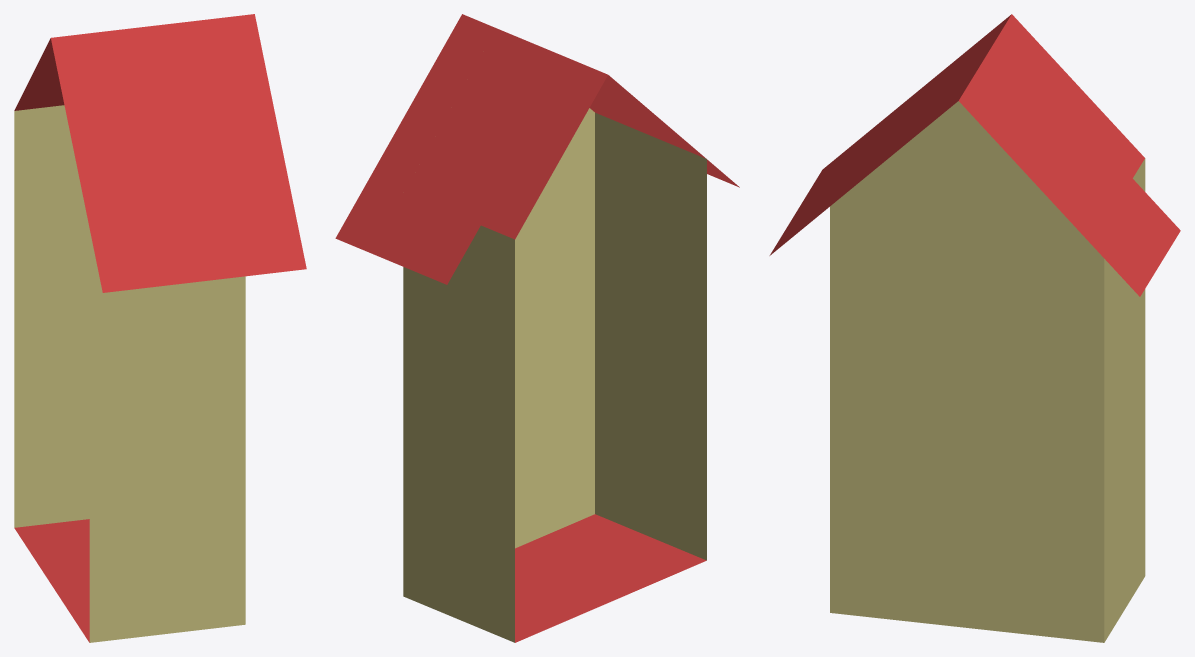
The picture shows the model from 3 angles, left to right: view 1: azimuth 30°, elevation 25°; view 2: azimuth 150°, elevation 25°; view 3: azimuth 270°, elevation 25°; orthographic projection. The views are drawn at different scales.
Size of the model in its own units: 6.06 by 8.27 by 12.14.
